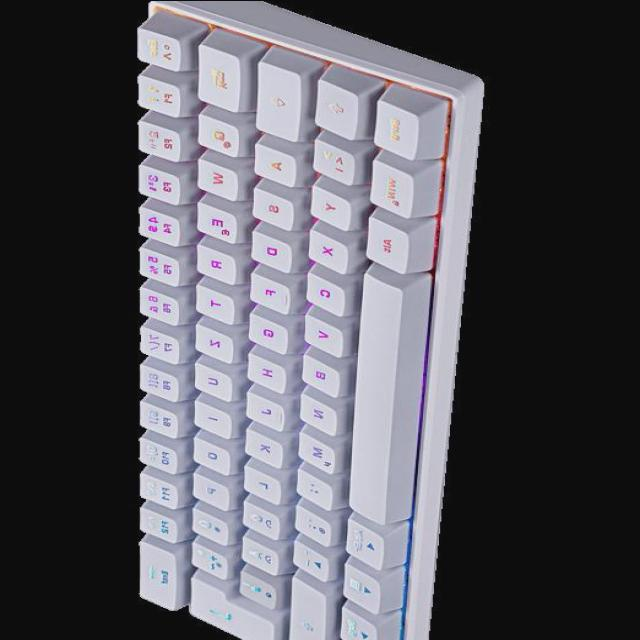0: (134, 435, 180, 473)
1: (134, 73, 182, 117)
2: (135, 119, 183, 163)
3: (134, 162, 182, 204)
4: (134, 204, 182, 246)
5: (133, 245, 181, 287)
6: (133, 287, 179, 325)
7: (134, 325, 180, 363)
8: (134, 364, 180, 402)
9: (134, 399, 180, 437)
a: (249, 142, 295, 185)
accent: (133, 504, 179, 543)
ae: (238, 533, 278, 575)
alt-left: (361, 214, 409, 274)
altgr-right: (341, 517, 390, 570)
b: (298, 347, 338, 397)
c: (302, 268, 344, 316)
caret: (134, 25, 182, 69)
comma: (292, 464, 331, 509)
d: (247, 229, 291, 273)
del: (135, 541, 181, 611)
e: (191, 198, 237, 243)
enter: (184, 567, 276, 640)
f: (245, 271, 288, 314)
g: (244, 310, 286, 354)
h: (243, 351, 285, 393)
hash: (234, 565, 276, 609)
i: (189, 398, 229, 438)
j: (242, 389, 282, 429)
k: (241, 425, 281, 467)
keyboard: (129, 0, 483, 640)
l: (239, 463, 278, 503)
less: (309, 133, 355, 185)
m: (295, 424, 335, 472)
minus: (288, 535, 330, 581)
n: (296, 390, 335, 434)
o: (189, 435, 229, 475)
oe: (238, 497, 278, 539)
p: (189, 471, 228, 509)
plus: (186, 537, 228, 579)
point: (291, 500, 331, 546)
q: (193, 110, 239, 156)
r: (191, 242, 234, 284)
s: (248, 185, 292, 230)
shift-left: (310, 76, 358, 140)
shift-lock: (252, 54, 301, 142)
shift-right: (285, 570, 328, 640)
space: (347, 262, 403, 524)
ss: (133, 470, 179, 508)
strg-left: (369, 97, 419, 161)
strg-right: (335, 606, 377, 640)
t: (191, 283, 233, 323)
tab: (193, 41, 241, 110)
u: (191, 359, 231, 401)
ue: (188, 504, 228, 544)
v: (301, 309, 341, 356)
w: (193, 156, 236, 199)
x: (304, 226, 346, 274)
y: (307, 183, 350, 231)
z: (190, 322, 232, 362)
